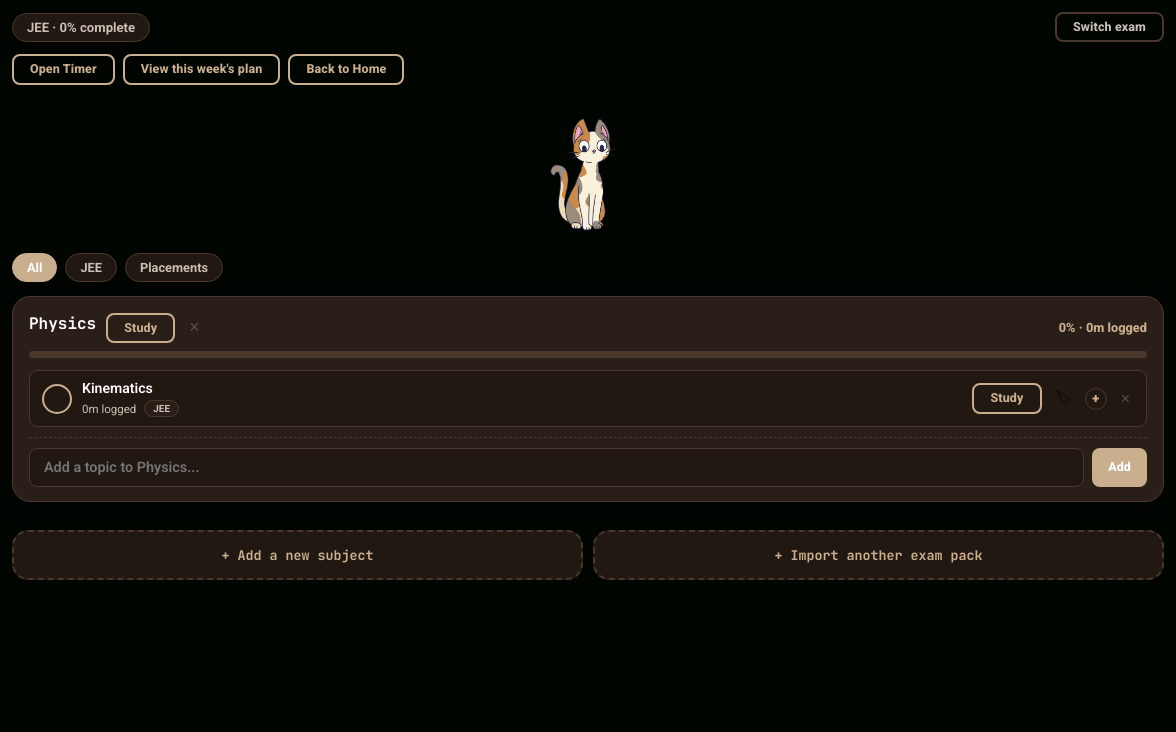
PortionTracker — deleting a section › does not delete a subject on the first click, only after confirming
Expected: the text "Kinematics" is shown, [82,380,153,396]
Click the button named "Delete Physics": point(194, 328) [185,315,204,341]
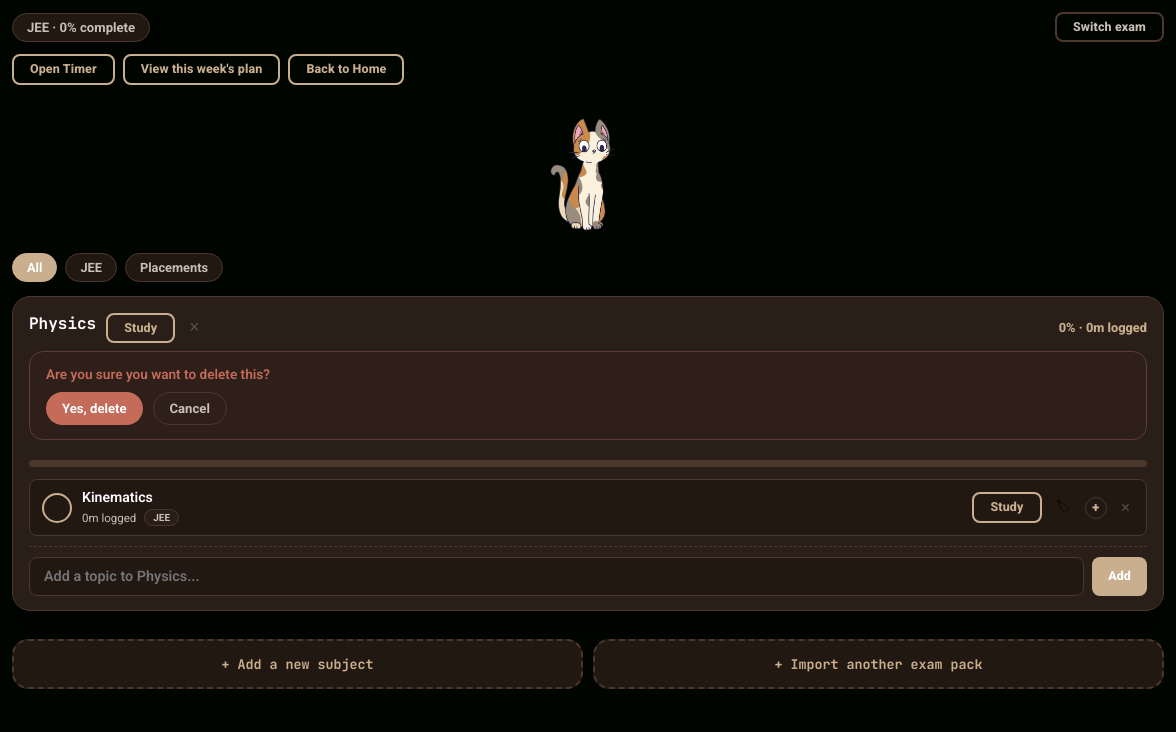
Expected: the heading "Physics" is shown, [29,313,96,334]
Result: the text "Are you sure you want to delete this?" is shown at [46,366,270,382]
